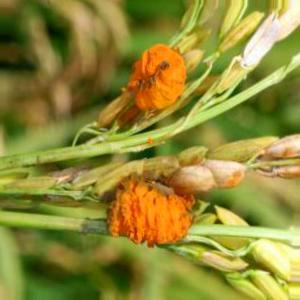Leaf_Scald: (114, 184, 189, 244), (136, 36, 184, 110)
